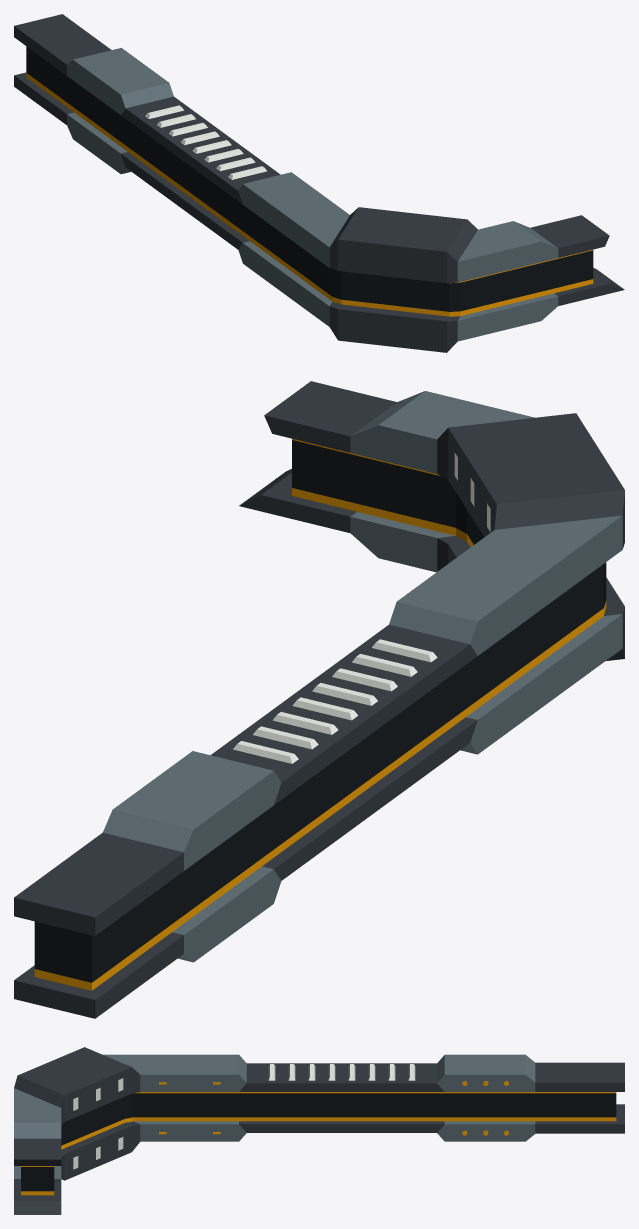
Rendered from prop45.FBX.
3 renders of one model, top to bottom at view 1: azimuth 30°, elevation 25°; view 2: azimuth 150°, elevation 25°; view 3: azimuth 270°, elevation 25°, orthographic. The views are drawn at different scales.
Parts seen in each view (by area): view 1: prop45; view 2: prop45; view 3: prop45.
Part boxes in pixels (bbox=[...]): prop45: bbox=[14, 14, 624, 352]; prop45: bbox=[14, 381, 624, 1018]; prop45: bbox=[14, 1047, 624, 1214].
Bounding box in the file's own units: 48.96 × 19.03 × 124.
